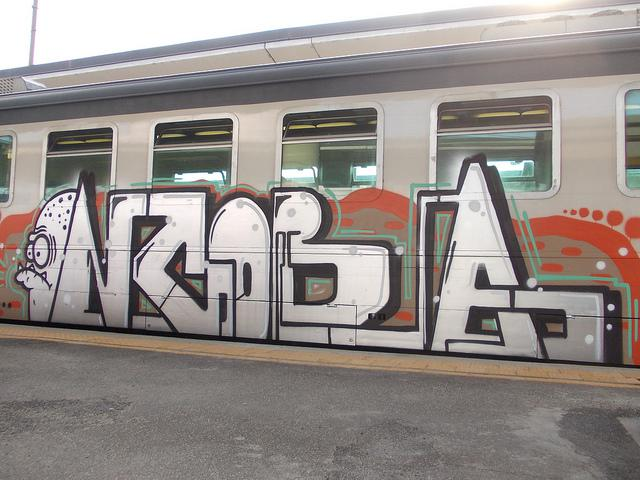Train: (2, 3, 640, 371)
